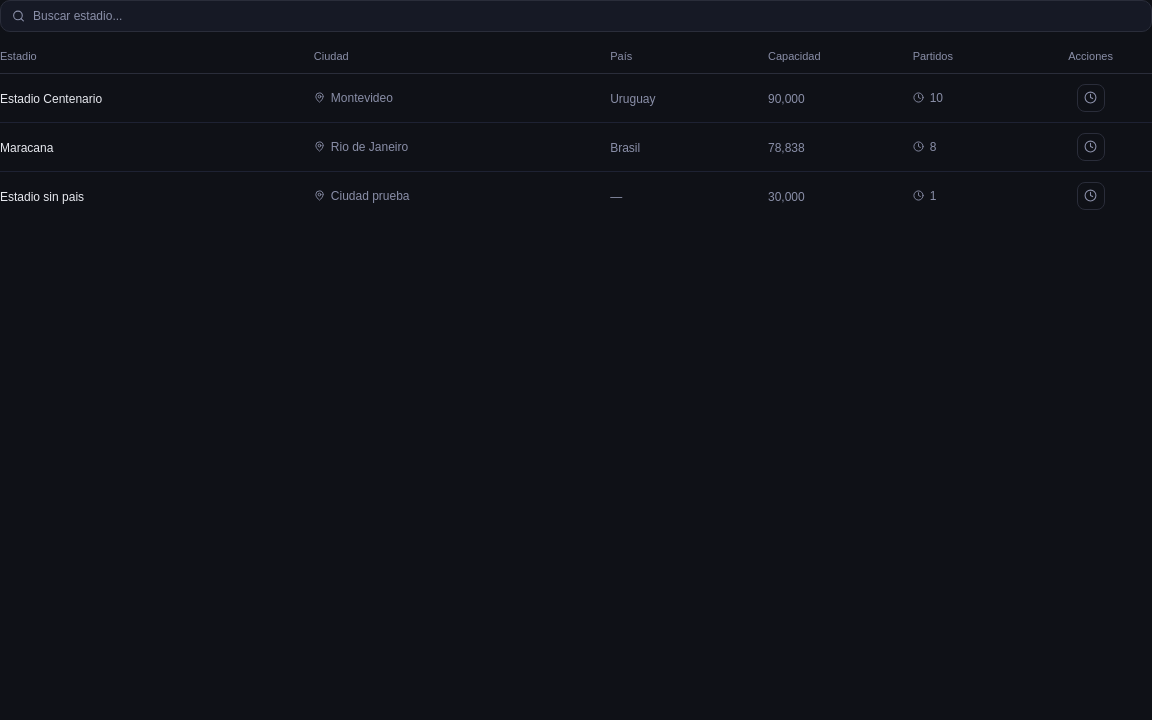
it: StadiumsTab › abre partidos de un estadio con encabezado de la fila y datos del endpoint
Click the button named "Ver partidos en Estadio Centenario". click: (1091, 98)
box: [1077,84,1105,112]
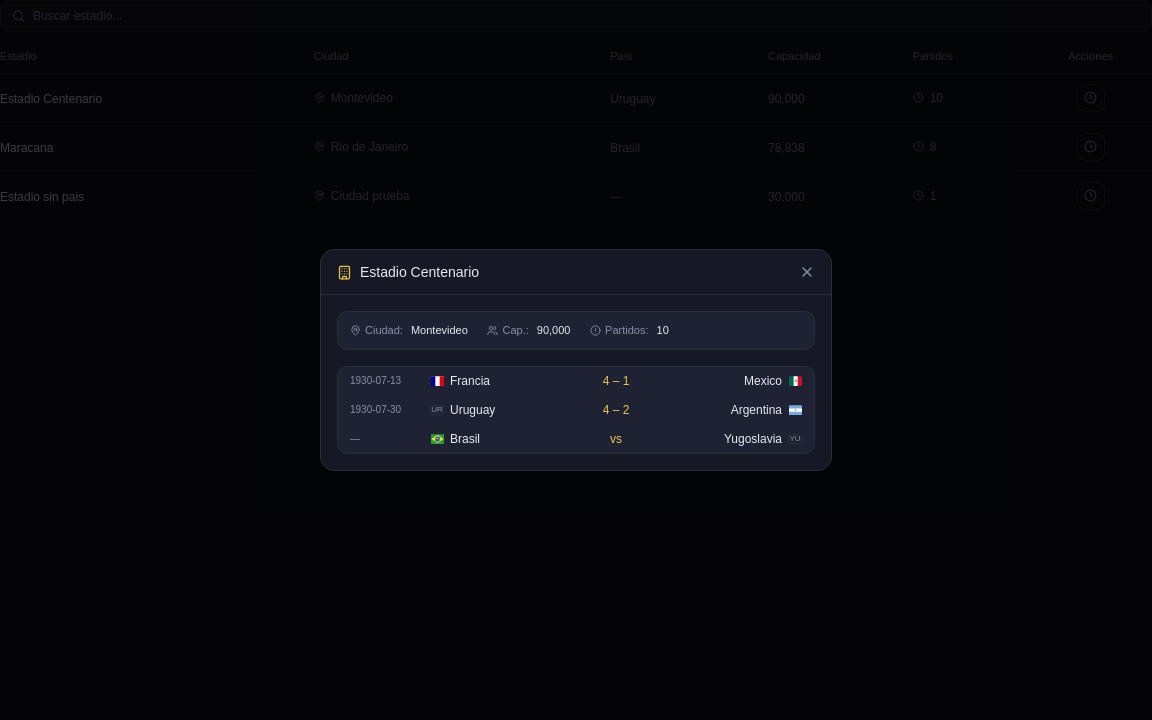
Check: the dialog named "Partidos en Estadio Centenario" is shown
Check: the text "Montevideo" is shown, box [411,322,468,339]
Check: the text "10" is shown, box [656,322,669,339]
